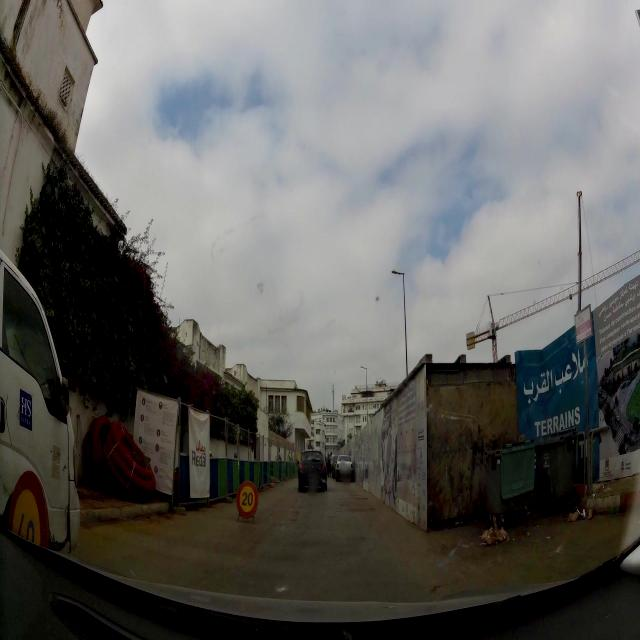car: (297, 448, 328, 493), (332, 454, 356, 482)
